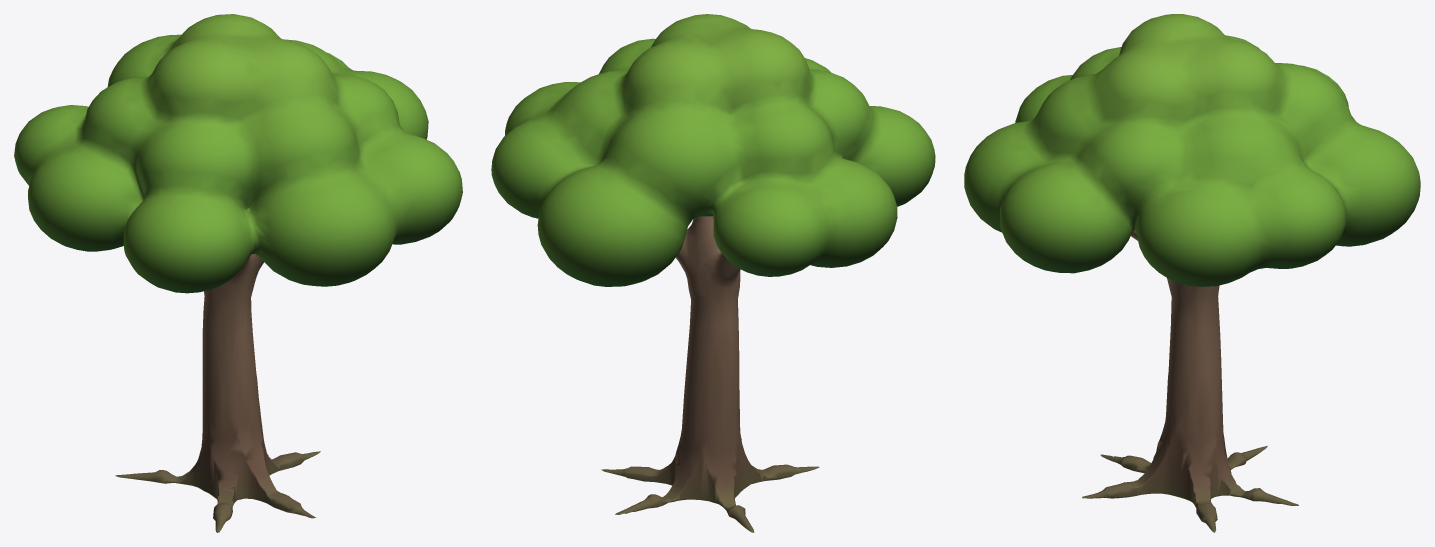
Rendered from jungle_tree.glb.
3 views of the same model, side by side, from view 1: azimuth 30°, elevation 25°; view 2: azimuth 150°, elevation 25°; view 3: azimuth 270°, elevation 25° (orthographic).
Visible parts, largest first — view 1: jungle_tree_mesh; view 2: jungle_tree_mesh; view 3: jungle_tree_mesh.
Boxes of the visible parts, bbox=[...] form: jungle_tree_mesh: bbox=[14, 14, 462, 532]; jungle_tree_mesh: bbox=[491, 14, 935, 532]; jungle_tree_mesh: bbox=[964, 14, 1420, 532].
Size of the model in its own units: 8.6 by 9.82 by 9.03.
